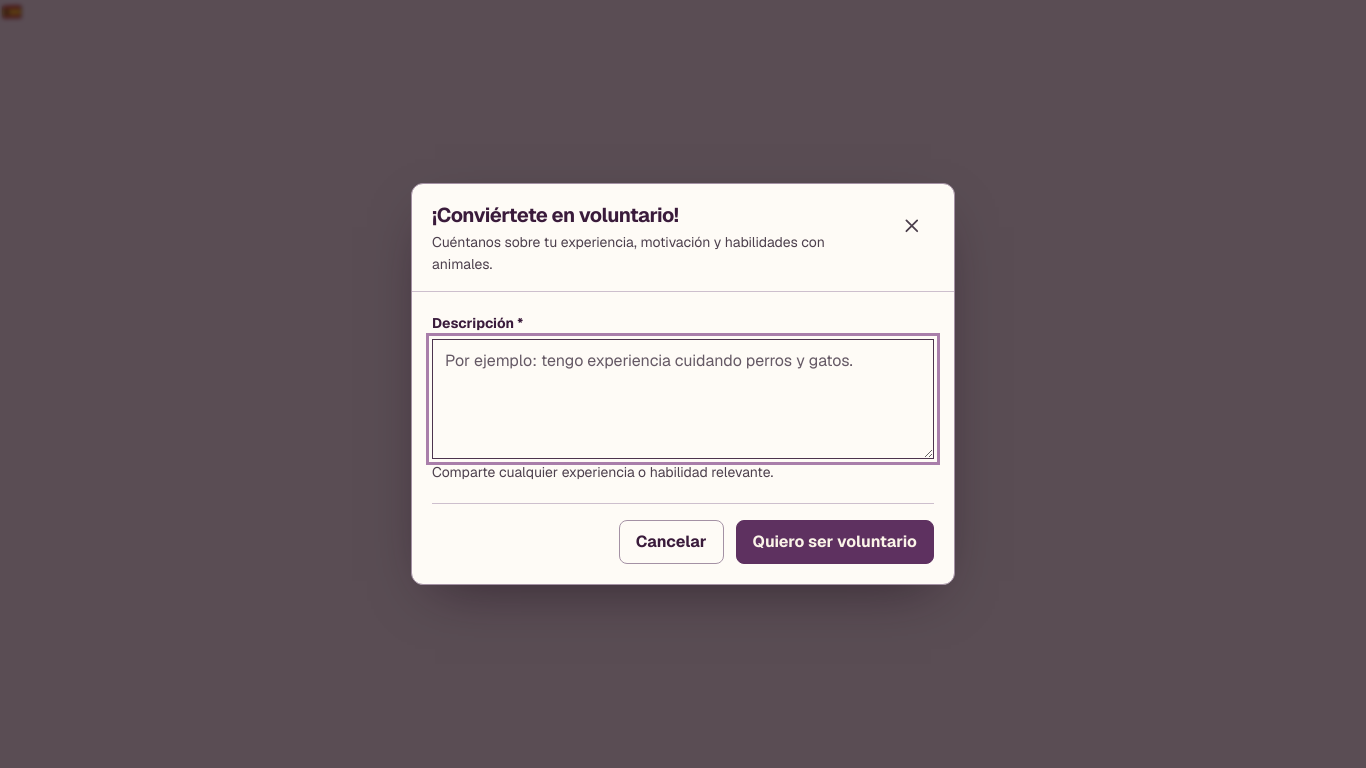
Test: VolunteerModal › shows a rejected update without closing and keeps the error associated
In the text box labelled "Descripción *": (683, 399) x1=432 y1=339 x2=934 y2=459, type "Experiencia con animales"
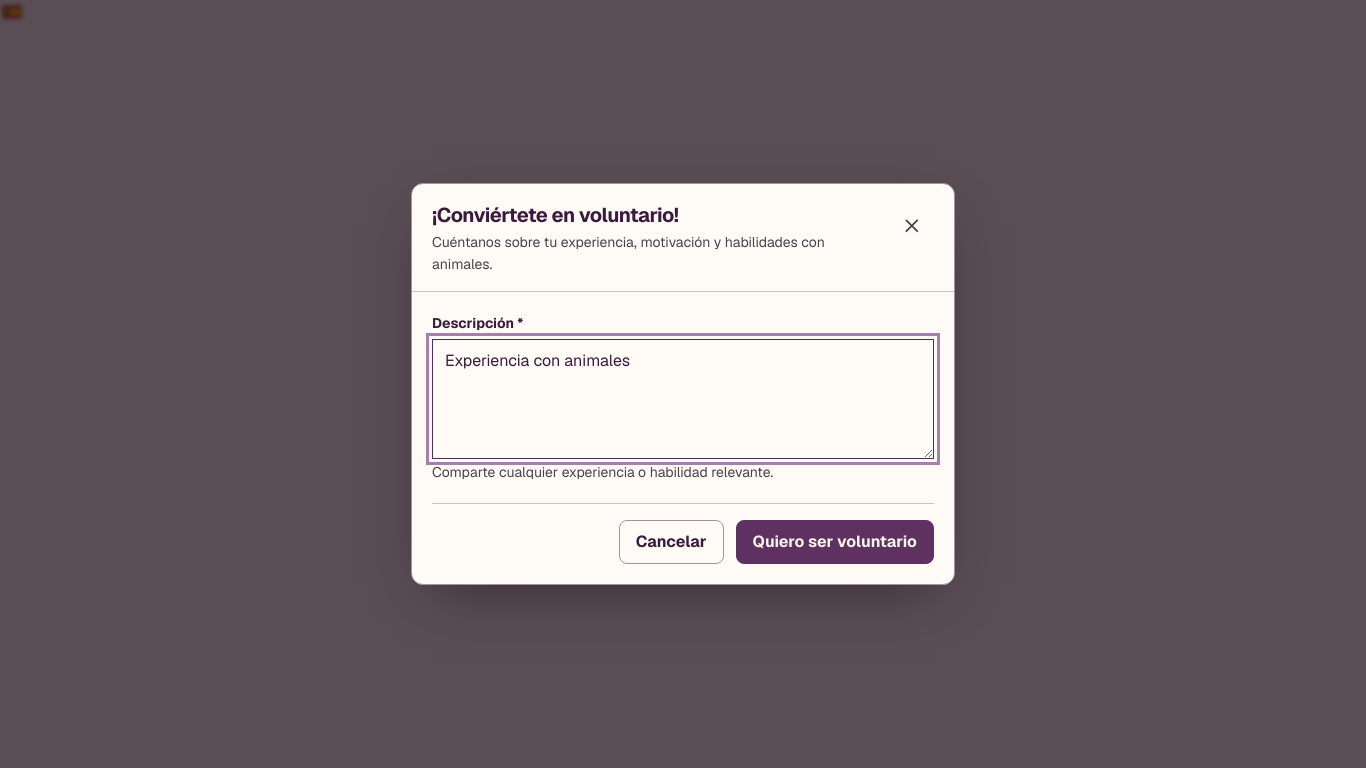
Click the button "Quiero ser voluntario": (835, 542) x1=736 y1=520 x2=934 y2=564
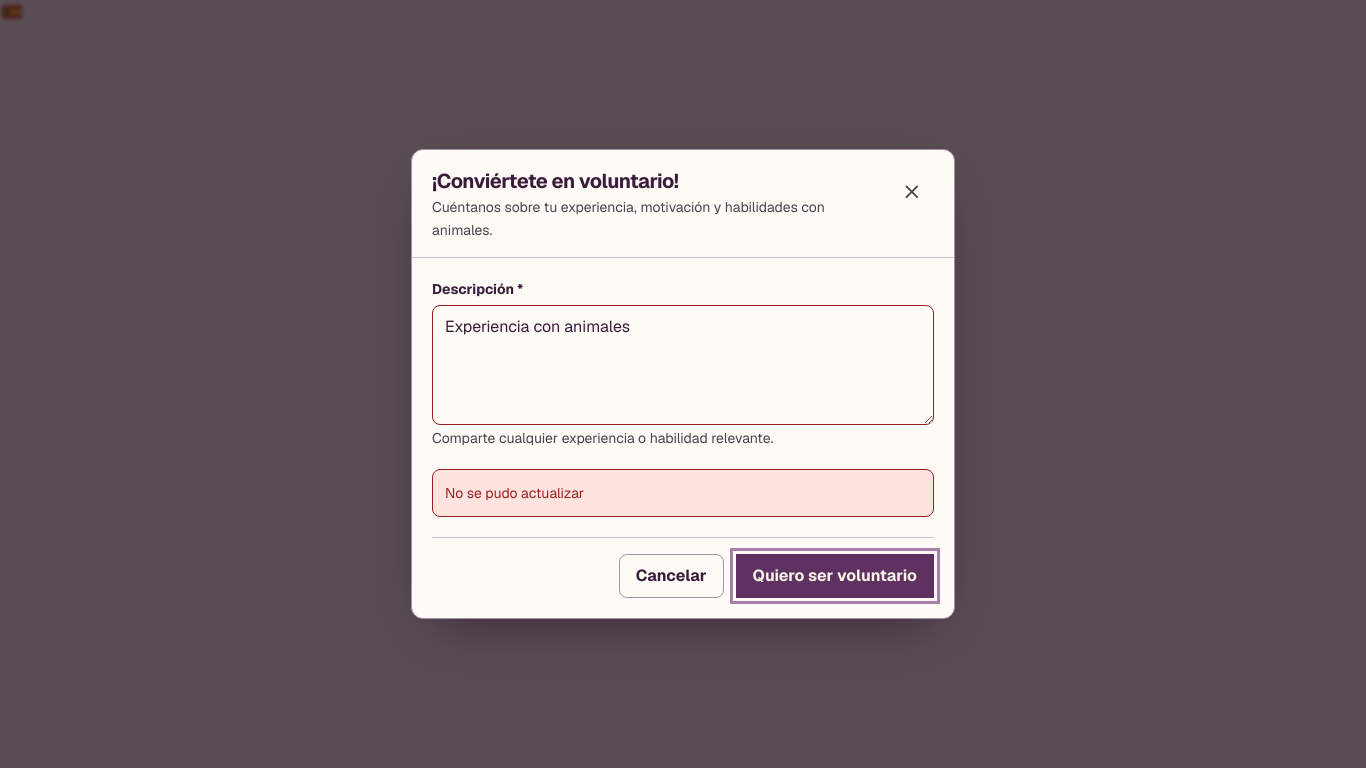
Expected: the message reads "No se pudo actualizar", x1=445 y1=484 x2=584 y2=502
